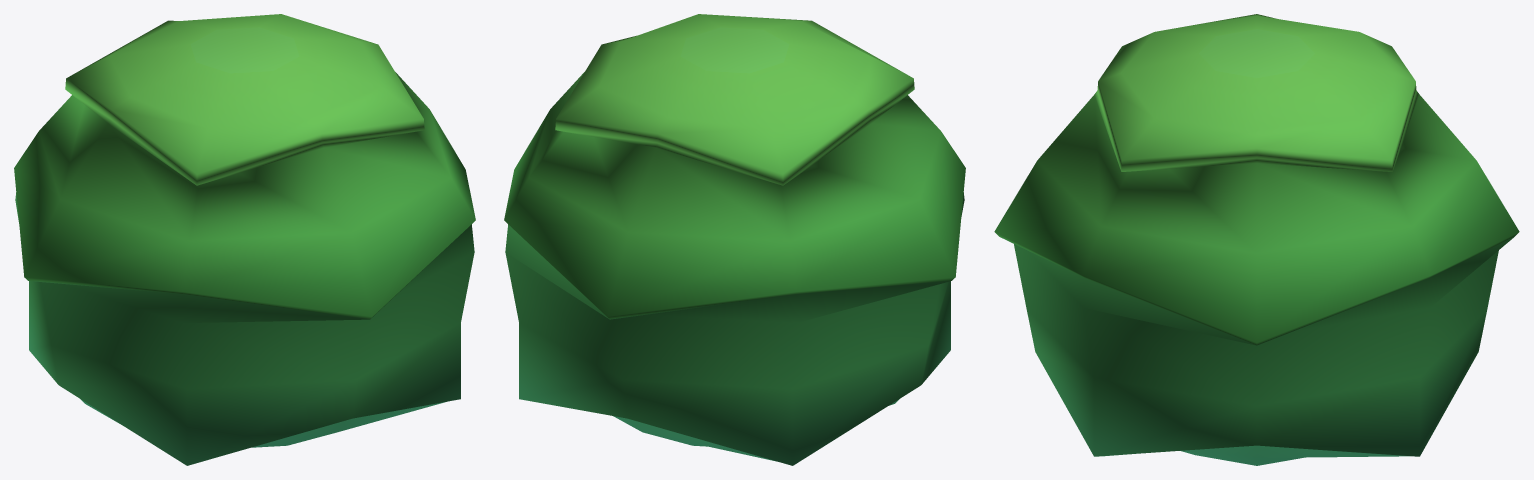
File: bush-light.fbx
3 renders of one model, left to right at view 1: azimuth 30°, elevation 25°; view 2: azimuth 150°, elevation 25°; view 3: azimuth 270°, elevation 25°, orthographic. The views are drawn at different scales.
Parts seen in each view (by area): view 1: bush-light; view 2: bush-light; view 3: bush-light.
Part boxes in pixels (x1,y1,x2,y2): bush-light: (14,14,475,465); bush-light: (504,14,965,465); bush-light: (994,14,1519,465).
Size of the model in its own units: 33.95 by 26.77 by 33.95.
